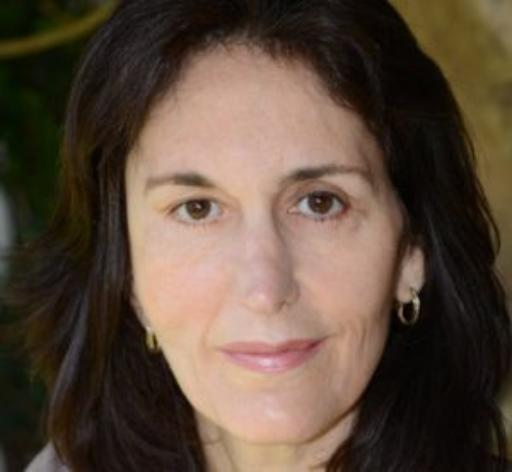left_eye: (286, 190, 352, 223)
left_lip_corner: (313, 330, 341, 350)
right_eye: (163, 195, 234, 228)
right_lip_corner: (212, 337, 243, 366)
